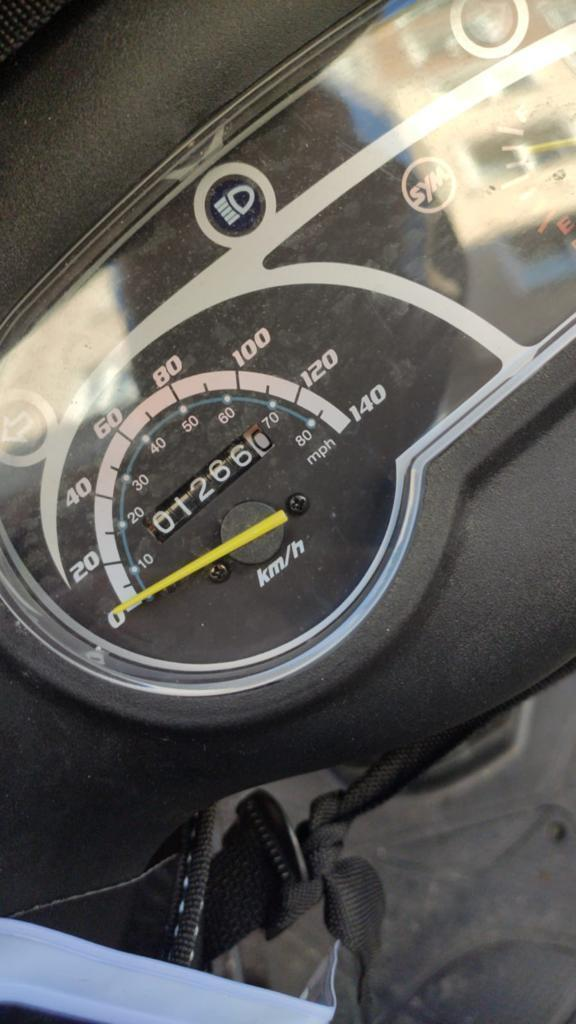0: (151, 509, 174, 534), (250, 428, 273, 452), (155, 436, 166, 448), (138, 473, 149, 485)
1: (172, 495, 193, 516)
2: (189, 476, 215, 502)
4: (149, 442, 159, 454)
5: (181, 419, 192, 433)
6: (207, 458, 231, 483), (229, 443, 253, 467)
7: (261, 416, 271, 428)
odometer: (140, 421, 277, 546)
